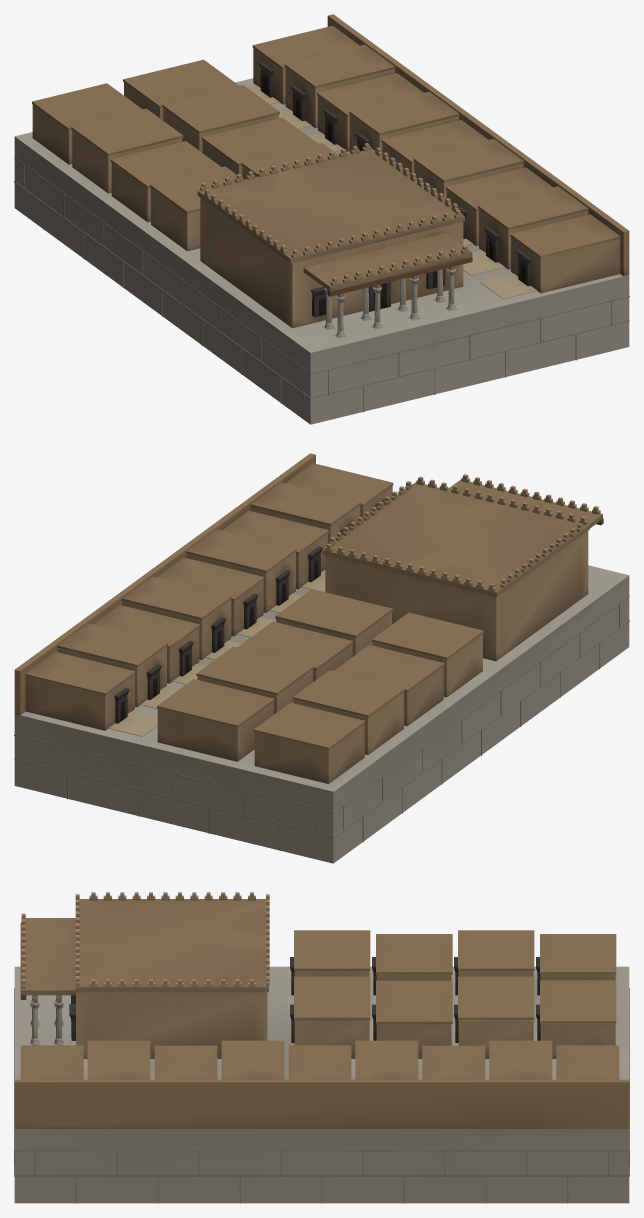
Rendered from harem.glb.
3 views of the same model, one above another, from view 1: azimuth 30°, elevation 25°; view 2: azimuth 150°, elevation 25°; view 3: azimuth 270°, elevation 25° (orthographic). The views are drawn at different scales.
Parts seen in each view (by area): view 1: p2_roof, p0_terrace, p1_walls; view 2: p2_roof, p0_terrace, p1_walls; view 3: p2_roof, p0_terrace, p1_walls.
Part boxes in pixels (bbox=[...]): p2_roof: bbox=[32, 25, 620, 296]; p0_terrace: bbox=[14, 78, 629, 424]; p1_walls: bbox=[32, 14, 629, 338]; p2_roof: bbox=[25, 463, 603, 749]; p0_terrace: bbox=[14, 565, 629, 863]; p1_walls: bbox=[14, 453, 588, 783]; p2_roof: bbox=[20, 892, 619, 1079]; p0_terrace: bbox=[14, 966, 629, 1203]; p1_walls: bbox=[14, 957, 629, 1128].
Bounding box in the file's own units: 56.19 × 24.92 × 90.16.
